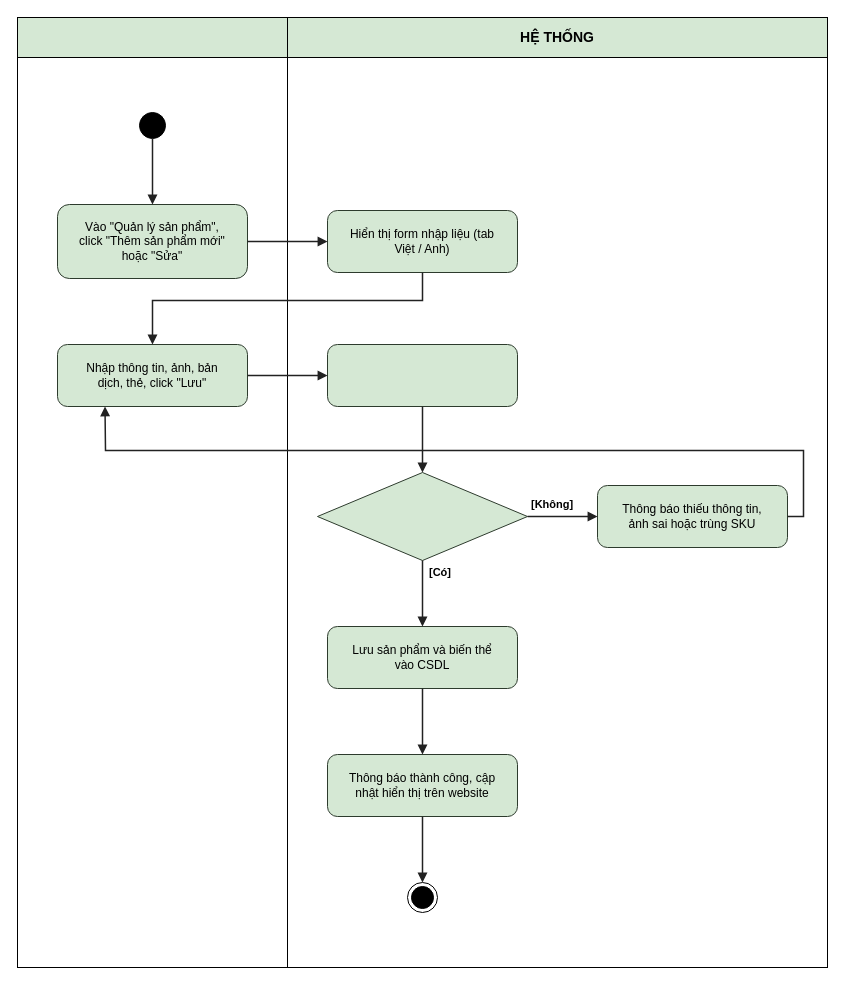
This 845x985 diagram has some shape labels left out. Each missing label, with the box of its shape:
Dữ liệu hợp lệ?: (316, 472, 528, 560)
Kiểm tra dữ liệu bắt buộc, ảnh và SKU: (326, 344, 518, 406)
QUẢN TRỊ VIÊN: (16, 16, 288, 58)
